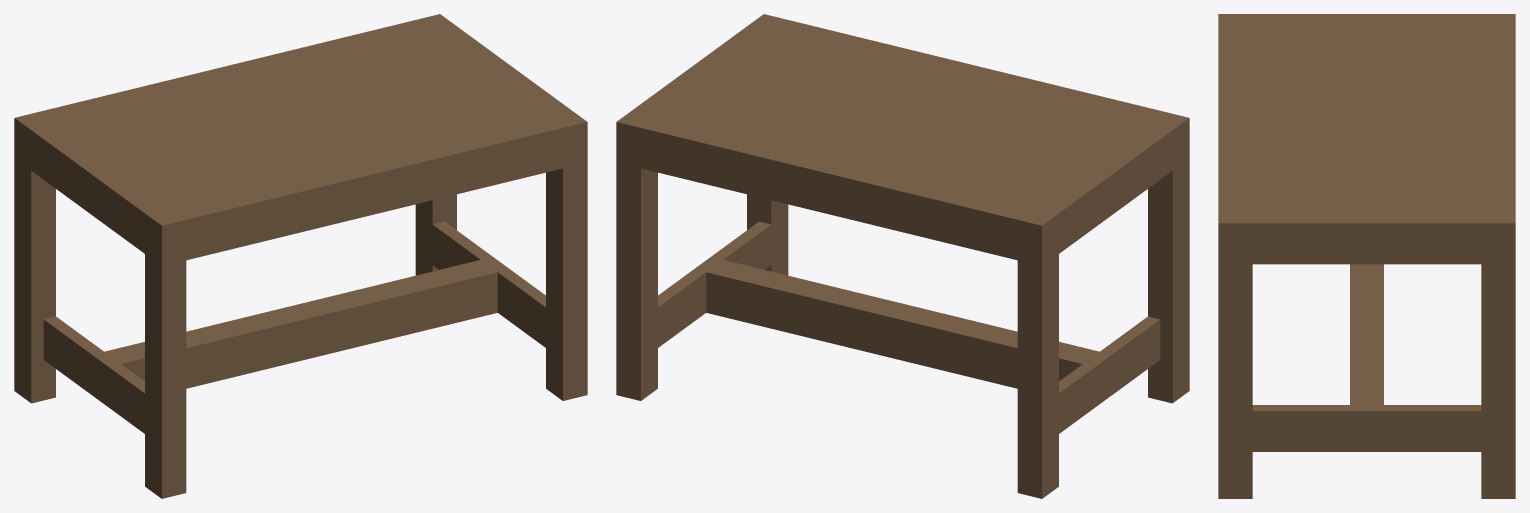
File: pk_tcounter_oak.glb
3 renders of one model, left to right at view 1: azimuth 30°, elevation 25°; view 2: azimuth 150°, elevation 25°; view 3: azimuth 270°, elevation 25°, orthographic.
Visible parts, largest first — view 1: pk_tcounter_oak; view 2: pk_tcounter_oak; view 3: pk_tcounter_oak.
Boxes of the visible parts, left/top/right/bottom form: pk_tcounter_oak: left=14, top=14, right=587, bottom=498; pk_tcounter_oak: left=616, top=14, right=1189, bottom=498; pk_tcounter_oak: left=1218, top=14, right=1515, bottom=498.
Bounding box in the file's own units: 1.5 × 0.92 × 0.9.
1 material, 1 textured.
